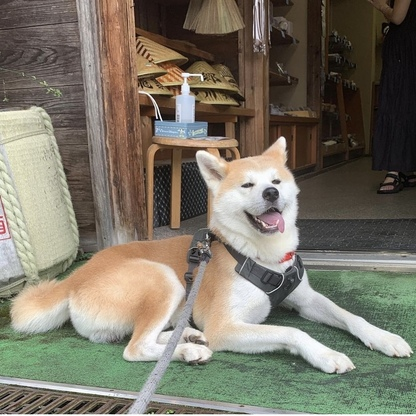akita: (5, 131, 416, 380)
